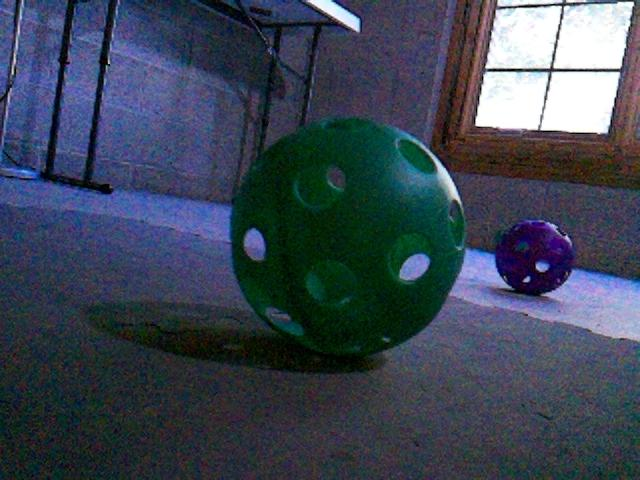Green: (229, 117, 462, 356)
Purple: (492, 218, 575, 296)
